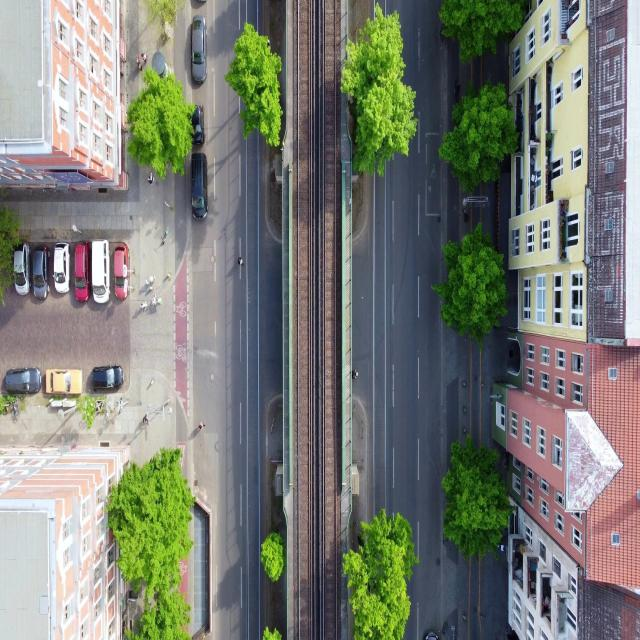Car: (191, 14, 208, 85), (44, 368, 84, 396), (4, 366, 41, 396), (32, 245, 50, 302), (74, 240, 90, 304), (53, 242, 71, 296), (114, 242, 130, 301), (14, 242, 31, 296), (92, 364, 125, 390), (189, 104, 206, 146)
Van: (189, 149, 209, 223), (90, 238, 112, 305)
